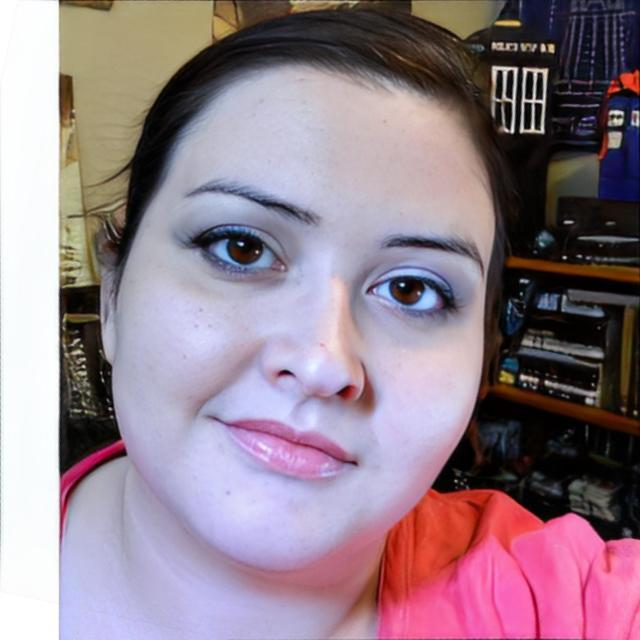content: (115, 67, 491, 570)
